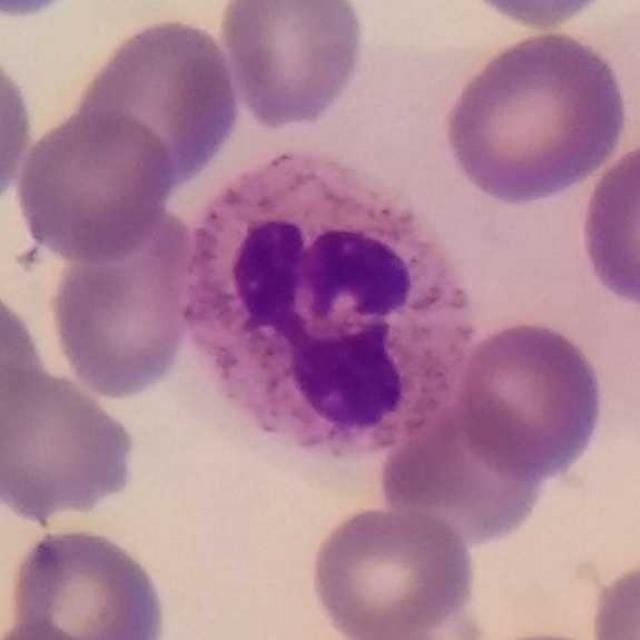Neutrophil: (167, 141, 487, 483)
RBC: (439, 27, 632, 206), (44, 202, 200, 403), (72, 11, 245, 190), (374, 395, 553, 548), (11, 104, 178, 264), (452, 316, 609, 481), (305, 502, 481, 639), (0, 358, 142, 525), (2, 521, 174, 640), (216, 0, 370, 132), (574, 136, 640, 315), (0, 279, 49, 456), (0, 36, 37, 214), (454, 0, 626, 32), (586, 555, 640, 639), (0, 612, 137, 639), (0, 0, 81, 21)
